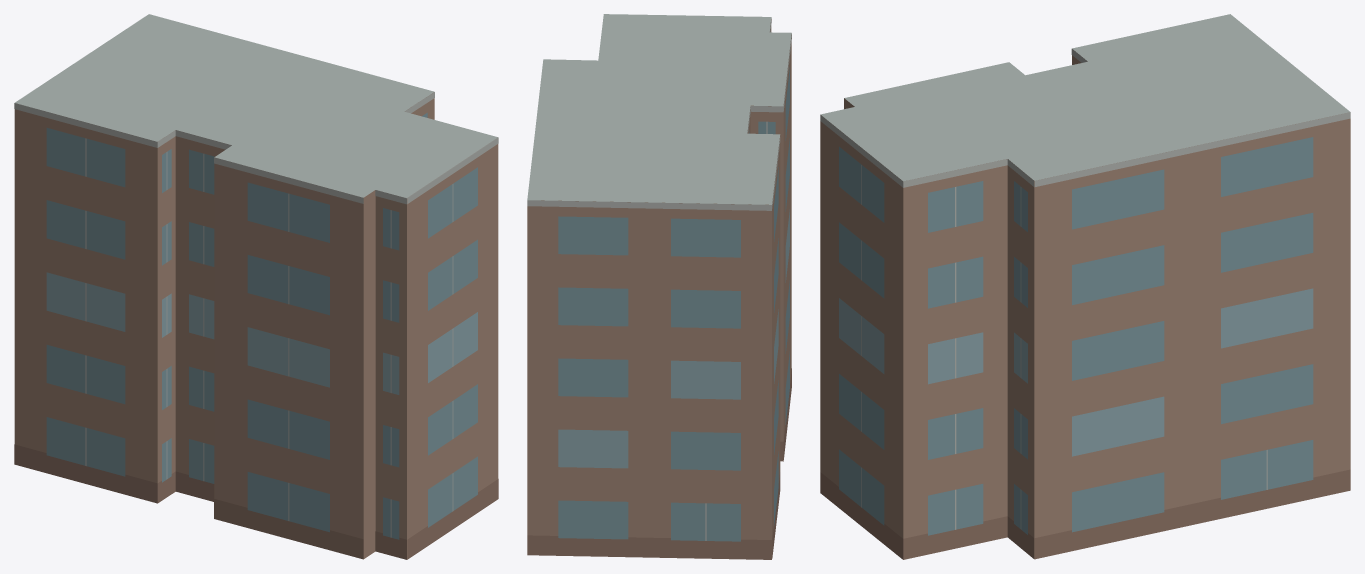
File: survey-upis-32862261.glb
3 views of the same model, side by side, from view 1: azimuth 30°, elevation 25°; view 2: azimuth 150°, elevation 25°; view 3: azimuth 270°, elevation 25° (orthographic). The views are drawn at different scales.
Parts seen in each view (by area): view 1: survey-upis-32862261.tmp; view 2: survey-upis-32862261.tmp; view 3: survey-upis-32862261.tmp.
Boxes of the visible parts, x1=… form: survey-upis-32862261.tmp: x1=14, y1=14, x2=498, y2=559; survey-upis-32862261.tmp: x1=527, y1=14, x2=791, y2=559; survey-upis-32862261.tmp: x1=820, y1=14, x2=1350, y2=559.
Bounding box in the file's own units: 13.52 × 14.25 × 18.1.
